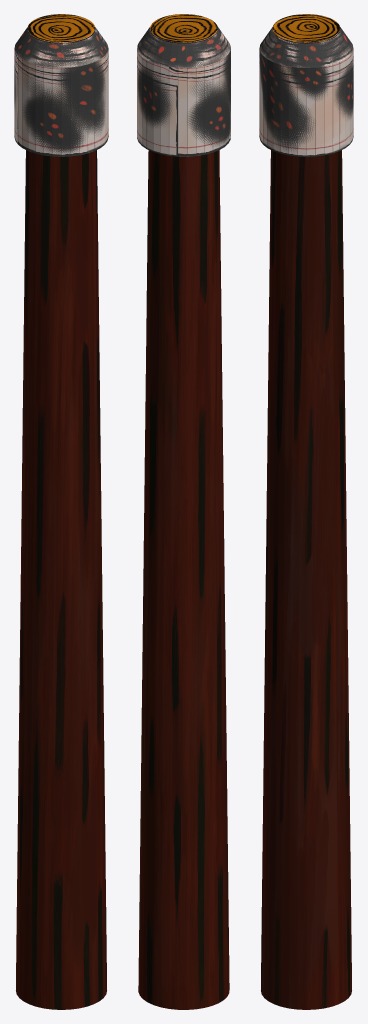
The model's file is torch.dae.
3 renders of one model, left to right at view 1: azimuth 90°, elevation 25°; view 2: azimuth 150°, elevation 25°; view 3: azimuth 270°, elevation 25°, orthographic.
Parts seen in each view (by area): view 1: torch, torchHead; view 2: torch, torchHead; view 3: torch, torchHead.
Part boxes in pixels (left/top/right/bottom): torch: left=16, top=14, right=106, bottom=1009; torchHead: left=14, top=14, right=108, bottom=156; torch: left=138, top=14, right=229, bottom=1009; torchHead: left=137, top=14, right=230, bottom=156; torch: left=261, top=14, right=351, bottom=1009; torchHead: left=259, top=14, right=353, bottom=156.
Bounding box in the file's own units: 0.0566 × 0.0566 × 0.6394.
Materials: 2 (2 with a texture image).
